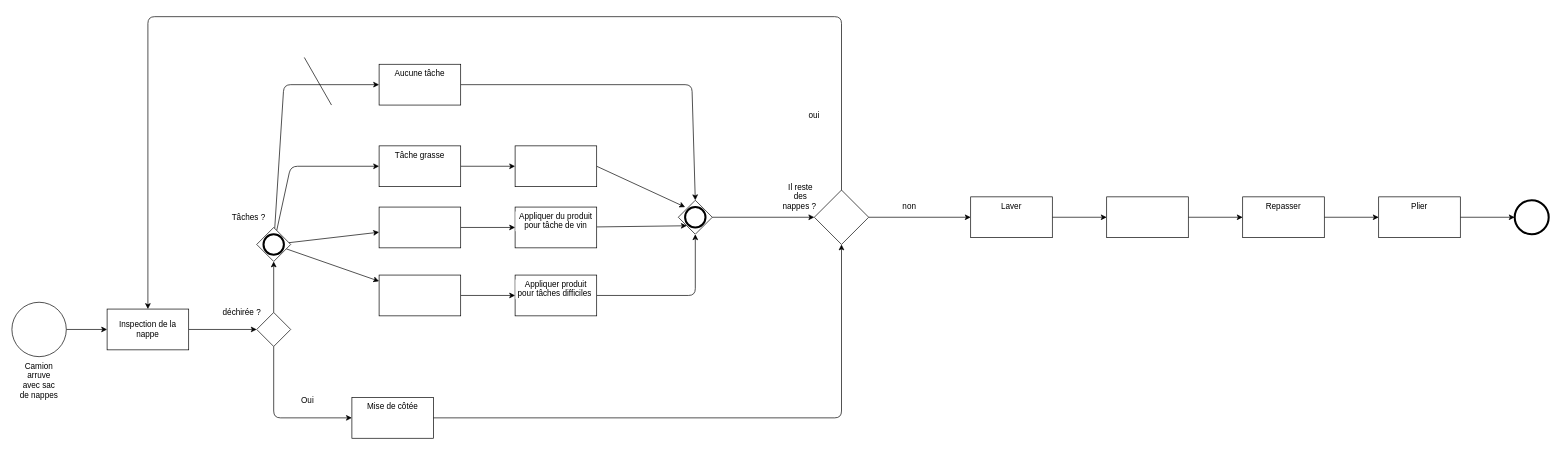
Some shapes in this 1561 by 450 pixel diagram are drawn without their labels. The shapes that lost their labels are listed below. From the top down, each one's box as (x1, y1, x2, y2) in pixels, then its label:
(514, 145, 597, 187): Appliquer du produit pour tâches grasses
(378, 206, 461, 248): Tâche Vin
(1106, 196, 1188, 238): Secher
(378, 274, 461, 316): Tâche difficile
